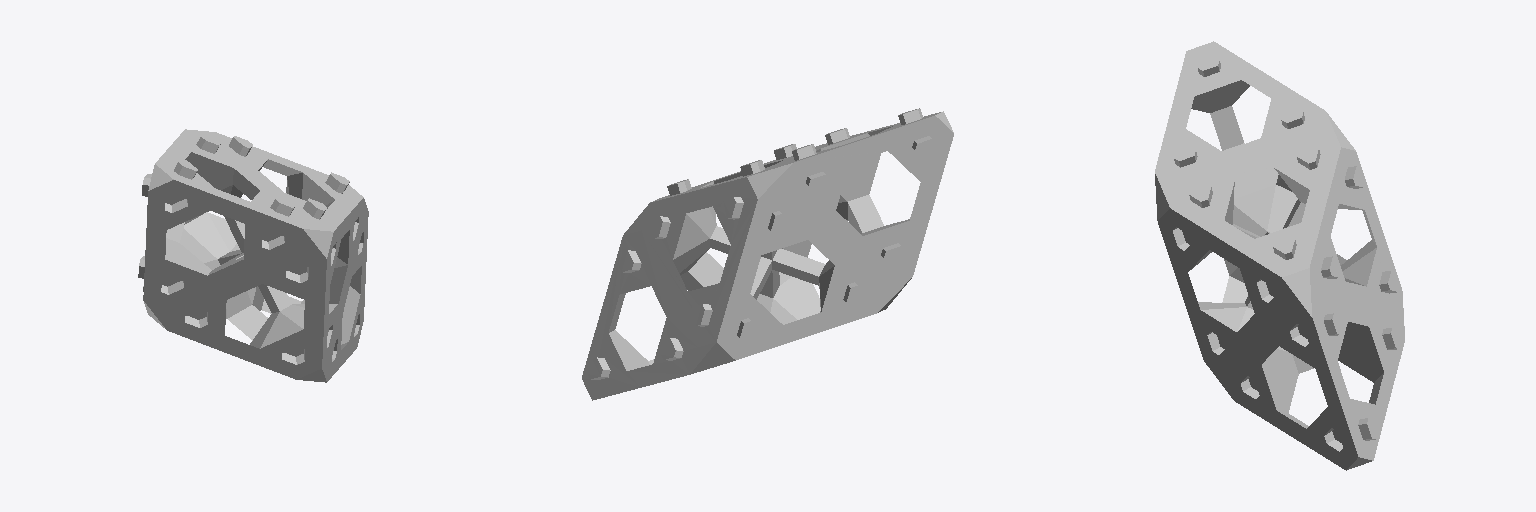
File: thinframes.obj
3 renders of one model, left to right at view 1: azimuth 30°, elevation 25°; view 2: azimuth 150°, elevation 25°; view 3: azimuth 270°, elevation 25°, orthographic.
Parts seen in each view (by area): view 1: Mesh1 Model; view 2: Mesh1 Model; view 3: Mesh1 Model.
Part boxes in pixels (bbox=[...]): Mesh1 Model: bbox=[138, 129, 368, 382]; Mesh1 Model: bbox=[582, 108, 953, 400]; Mesh1 Model: bbox=[1155, 41, 1404, 470].
Bounding box in the file's own units: 116 × 112 × 85.36.